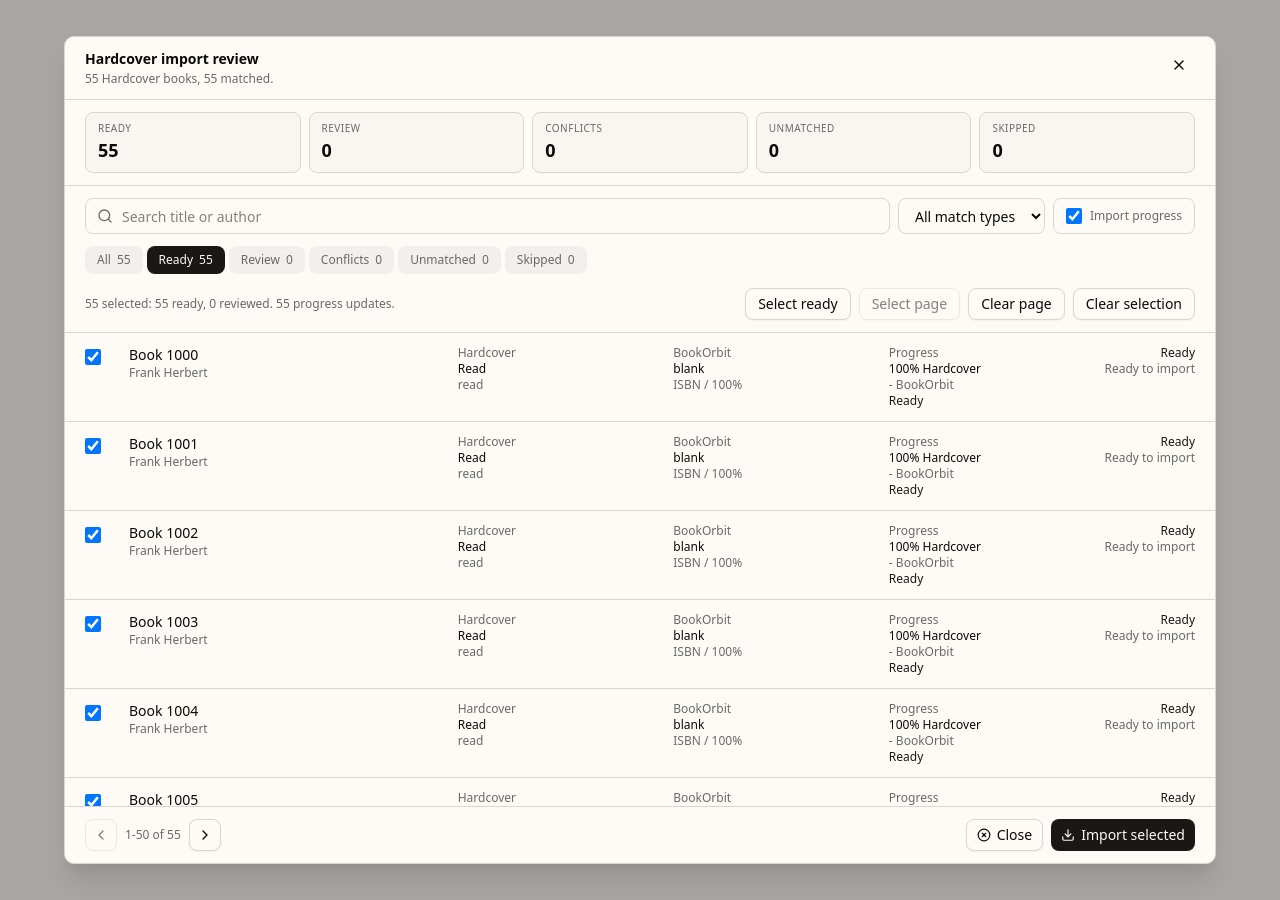
Test: HardcoverImportReviewModal › paginates large previews without rendering every row at once
Expected: the text "Book 1054" is not shown
Step 1. Click the button named "Next page" → coordinates (205, 835), box [189,819,221,851]
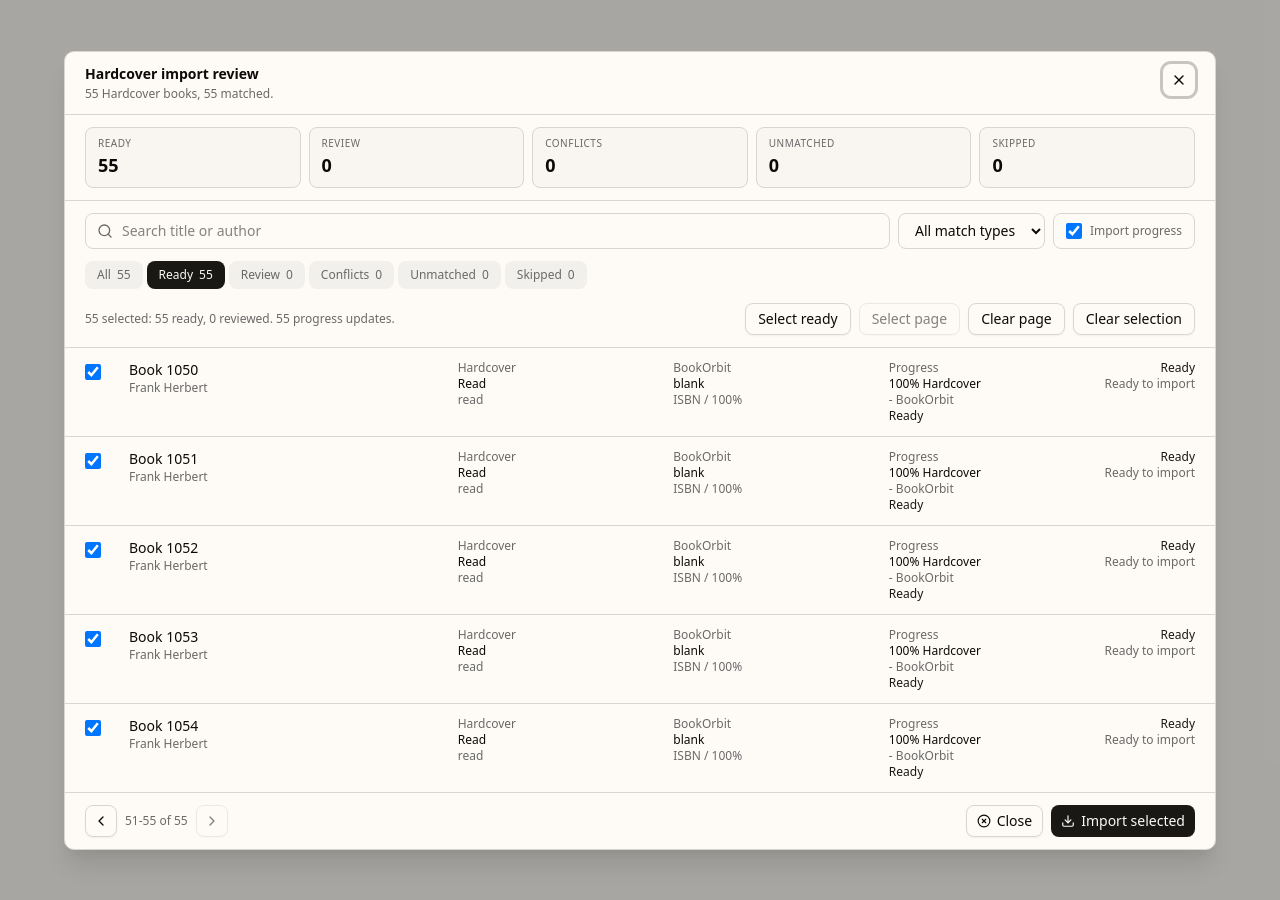
Expected: the text "51-55 of 55" is shown, [125,812,188,828]
Expected: the text "Book 1054" is shown, [129,716,198,734]
